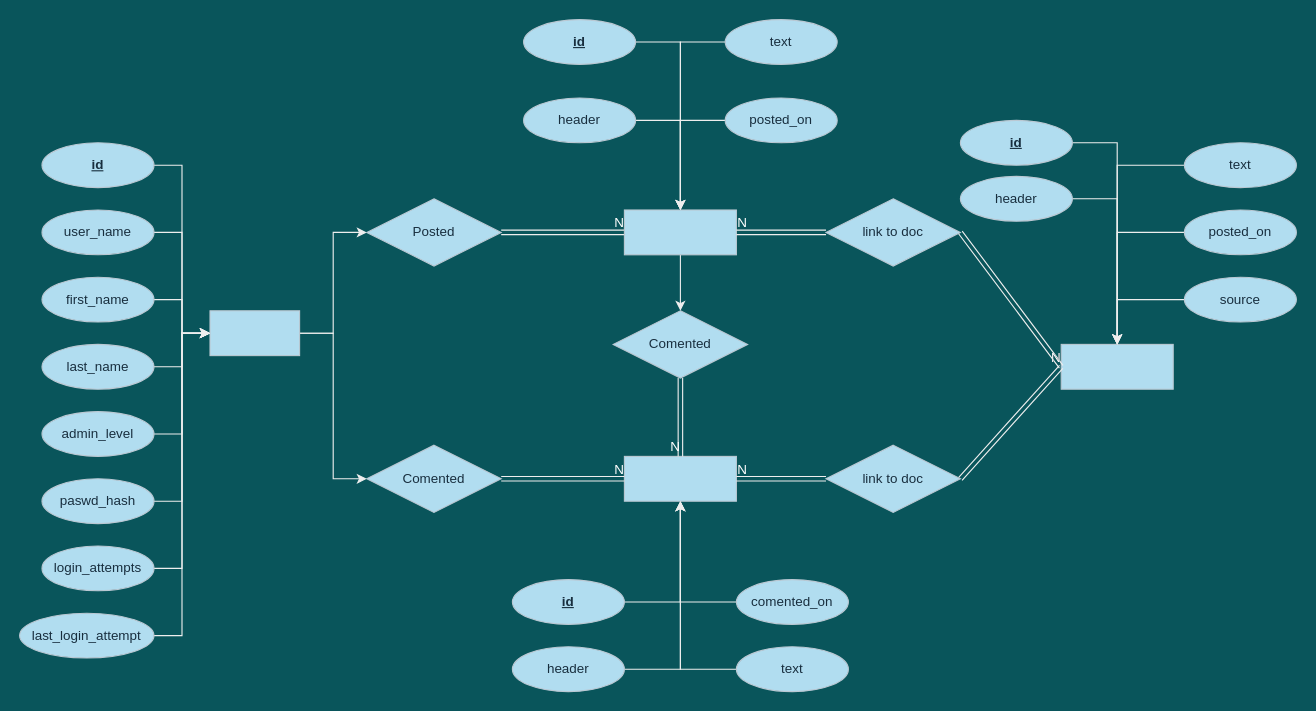
Image size: 1316x711. Some labels were removed from this diagram. Here are the shapes that lost their labels. From the top down, the centre of each, then its label:
At point (679, 232): "Post".
At point (254, 333): "account".
At point (1116, 366): "Official Docomuntation".
At point (679, 478): "comment".
